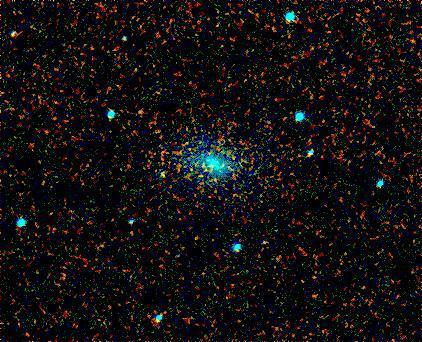star: (153, 165, 183, 195)
